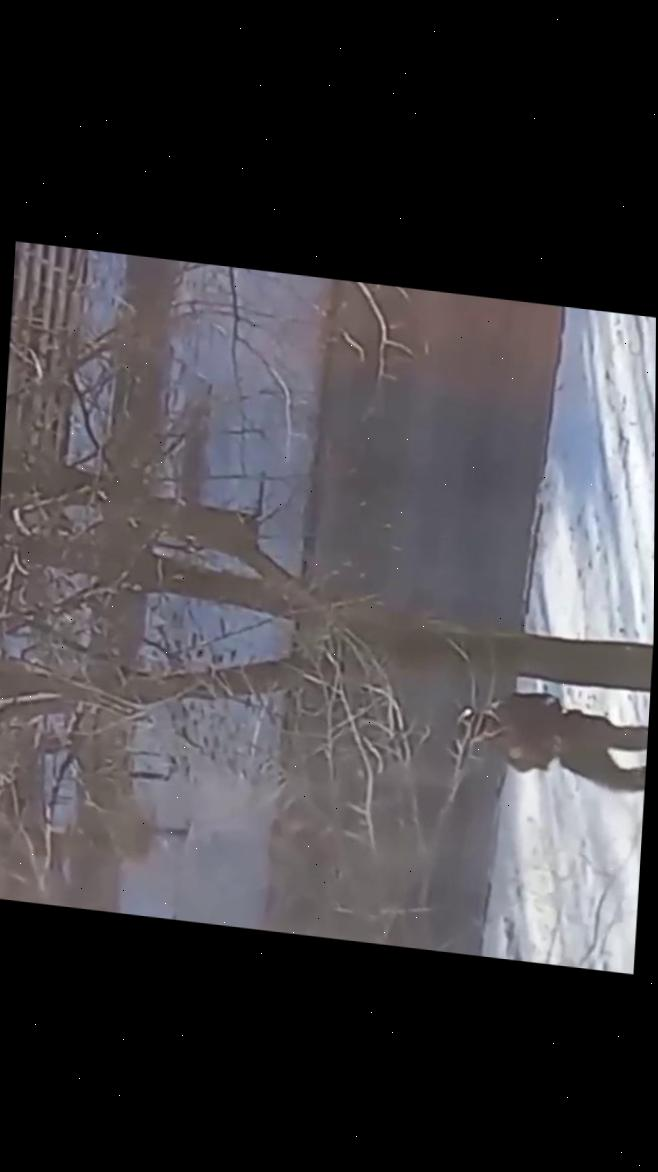person: (450, 676, 650, 804)
